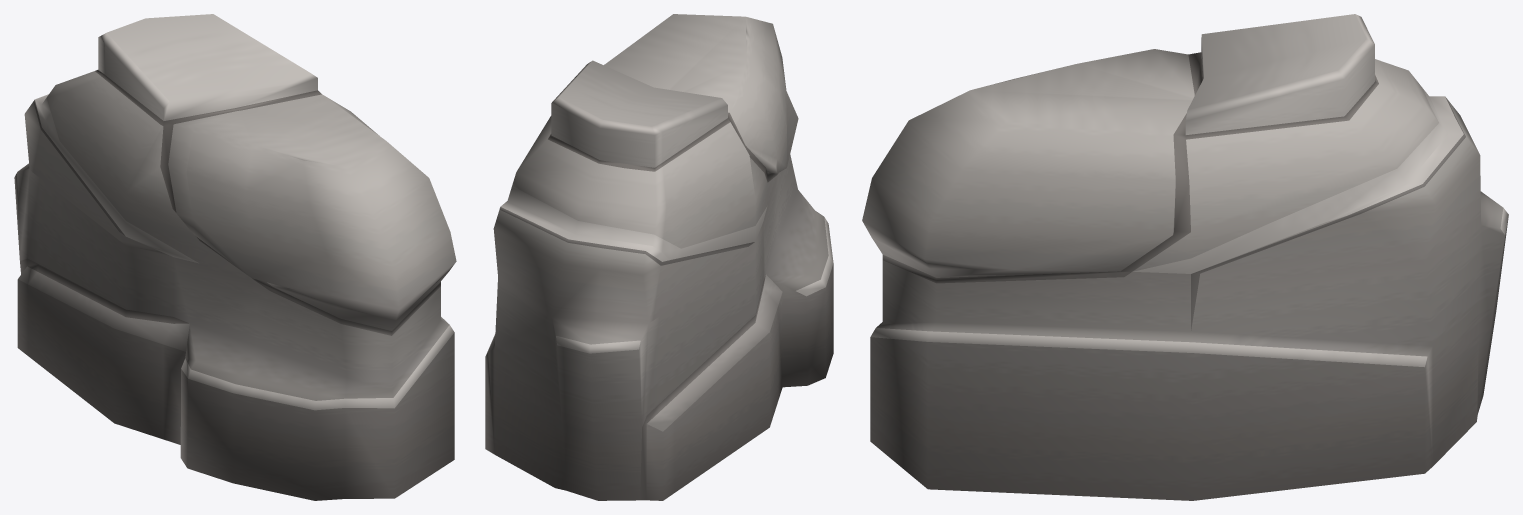
The model's file is Rock_02.fbx.
The picture shows the model from 3 angles, left to right: view 1: azimuth 30°, elevation 25°; view 2: azimuth 150°, elevation 25°; view 3: azimuth 270°, elevation 25°; orthographic projection. The views are drawn at different scales.
Parts seen in each view (by area): view 1: Rock_02; view 2: Rock_02; view 3: Rock_02.
Part boxes in pixels (x1,y1,x2,y2): Rock_02: (14, 14, 456, 500); Rock_02: (485, 14, 833, 500); Rock_02: (862, 14, 1508, 500).
Size of what is drawn, in the model's own units: 3.21 by 4.27 by 6.53.
1 material, 1 textured.
